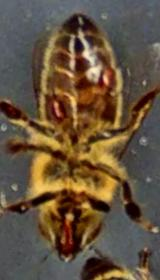varroa_mite: (84, 55, 131, 96), (38, 88, 72, 130)
